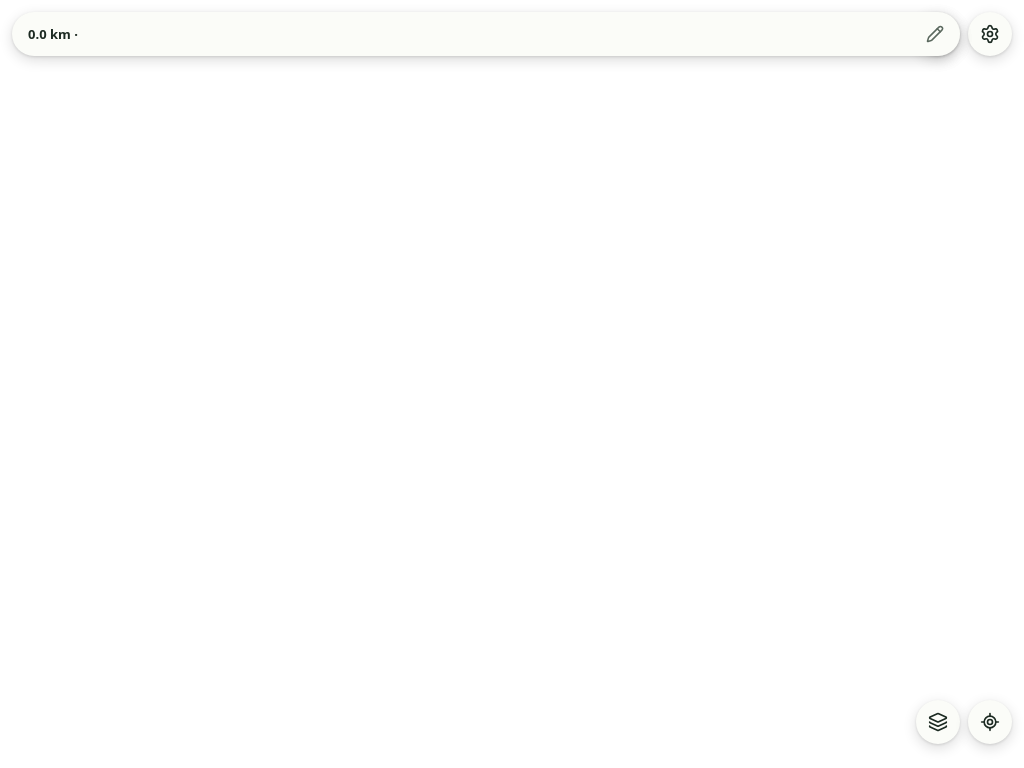
App › leaves the only h1 to the page that opens over the map
Click the link with test id "criteria-settings" at (990, 34), box [968,12,1012,56]
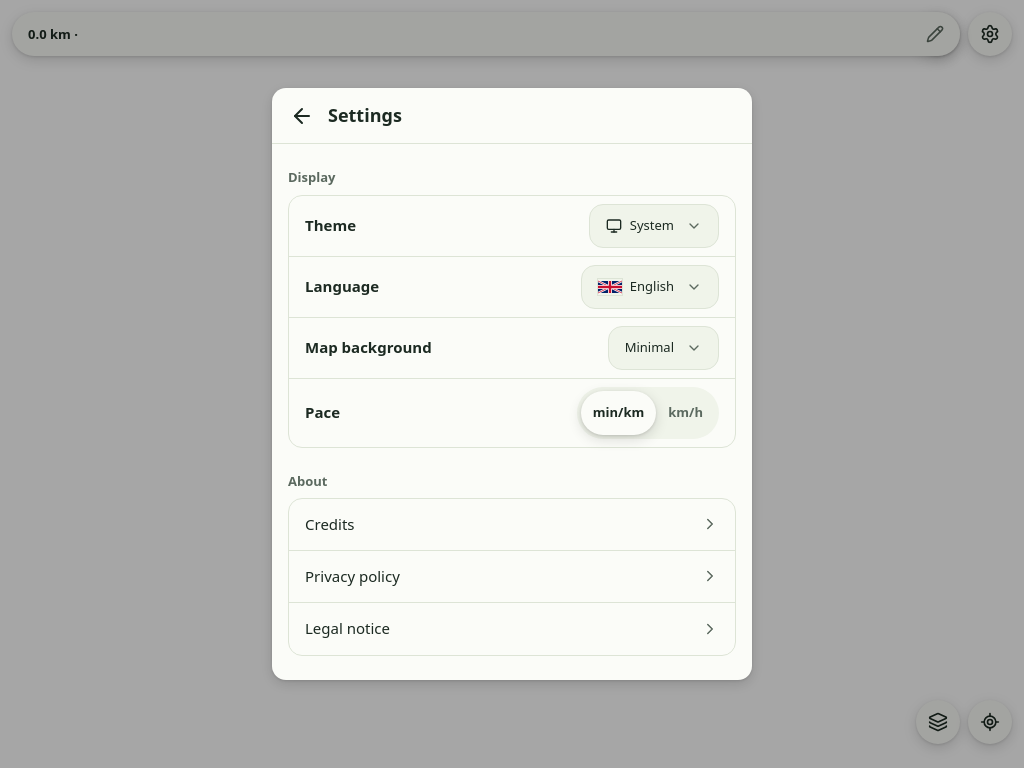
Check: the heading with test id "sub-page-title" reads "Settings", box [328,103,402,127]
